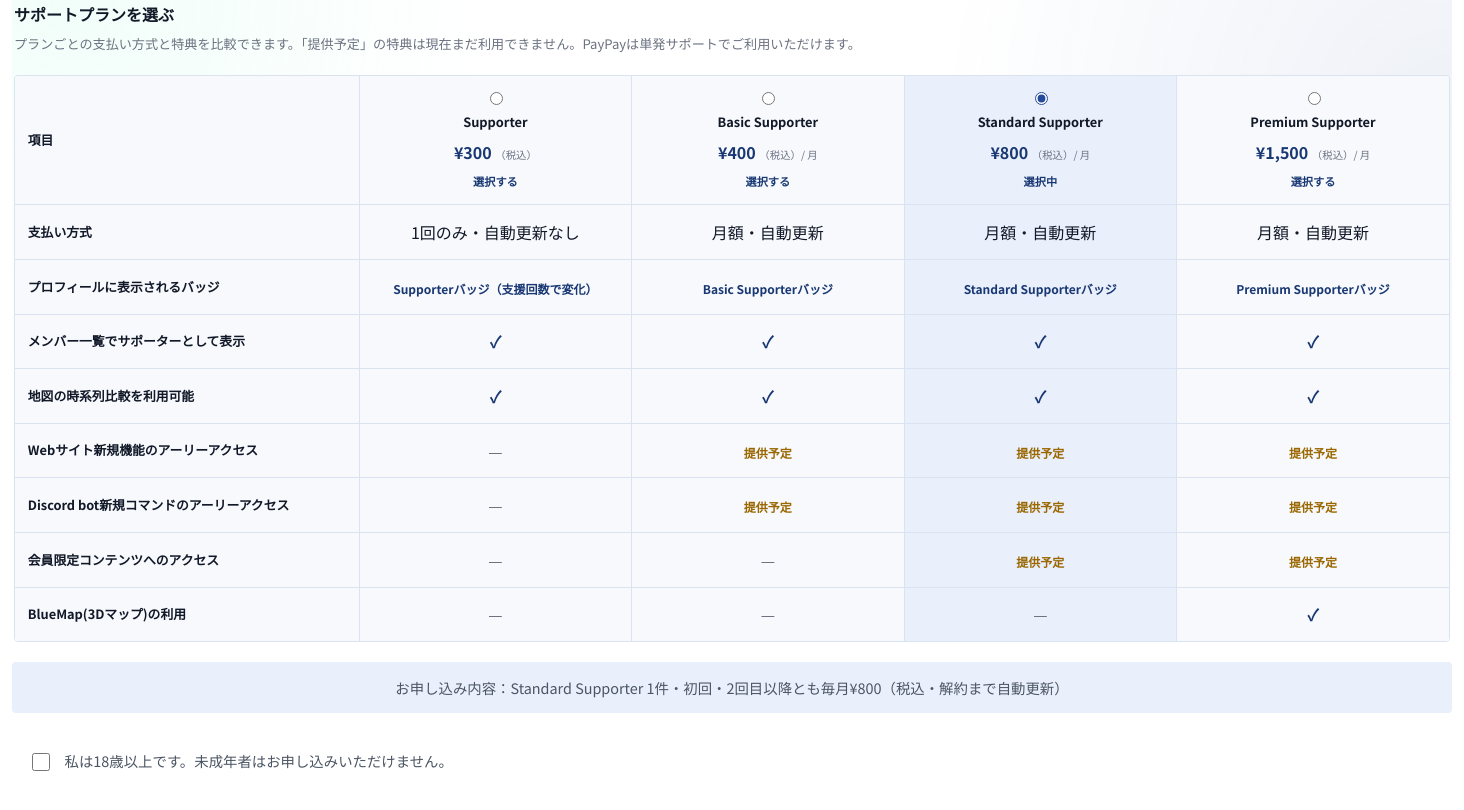
Test: SupportForm › keeps the application button disabled until both required conditions are checked
The width and height of the screenshot is (1464, 810).
Click the checkbox labelled "私は18歳以上です。未成年者はお申し込みいただけません。" at point(41, 762), box [32,753,50,771]
(page scrolled)
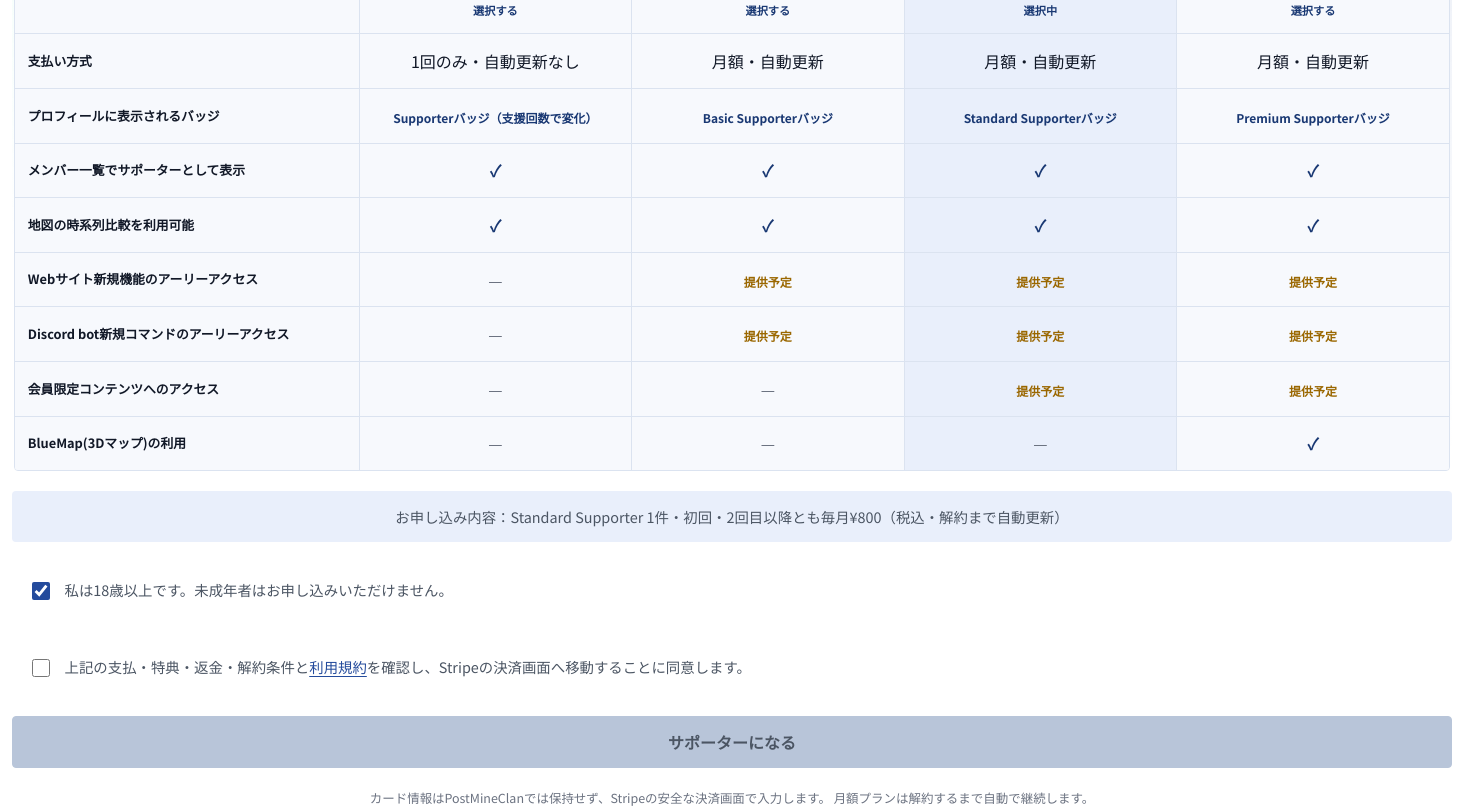
expect the button "サポーターになる" is disabled: met, box [12,716,1452,768]
Click the checkbox labelled "上記の支払・特典・返金・解約条件と 利用規約 を確認し、Stripeの決済画面へ移動することに同意します。" at point(41, 668), box [32,659,50,678]
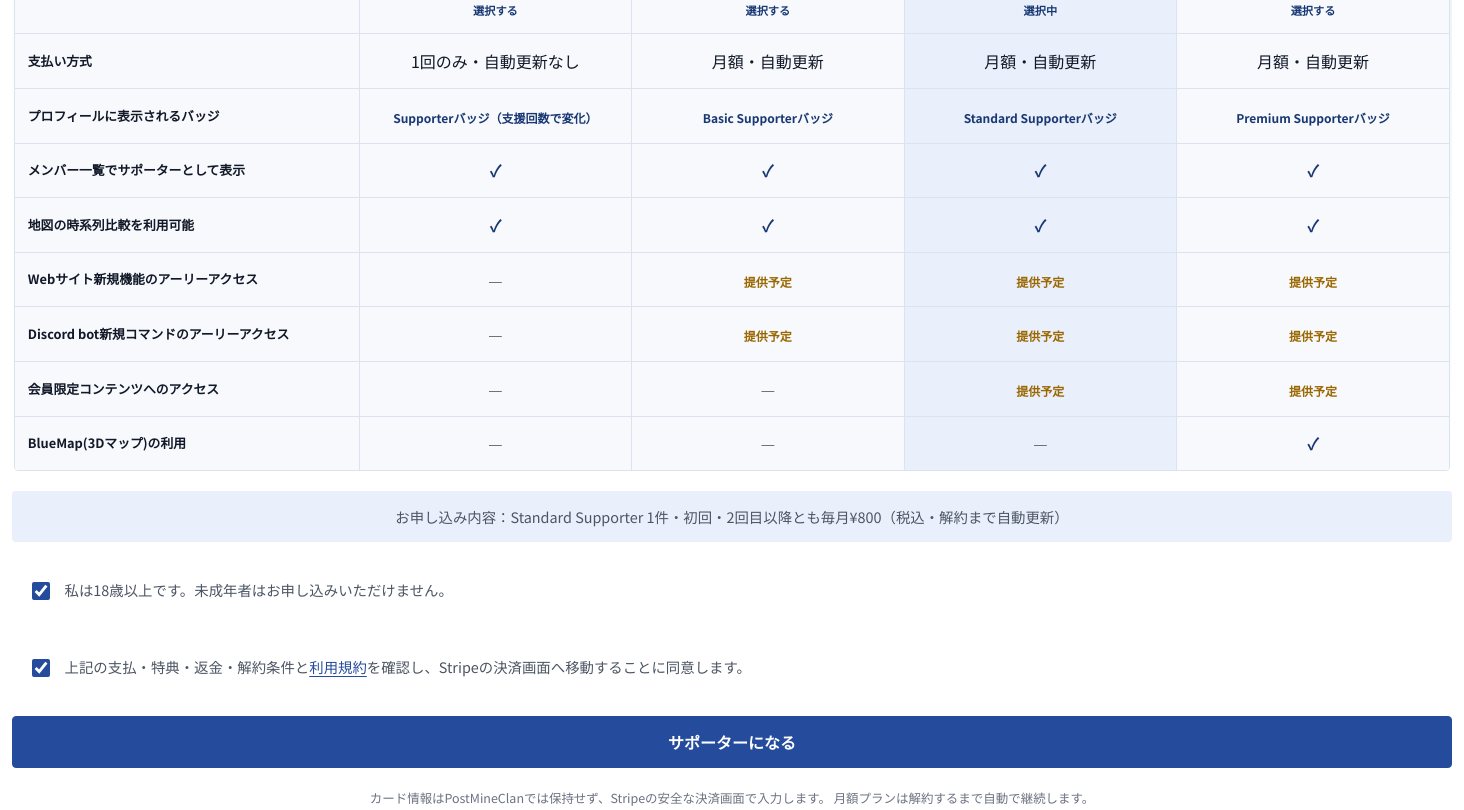
expect the button "サポーターになる" is enabled: met, box [12,716,1452,768]
Click the checkbox labelled "私は18歳以上です。未成年者はお申し込みいただけません。" at point(41, 591), box [32,582,50,600]
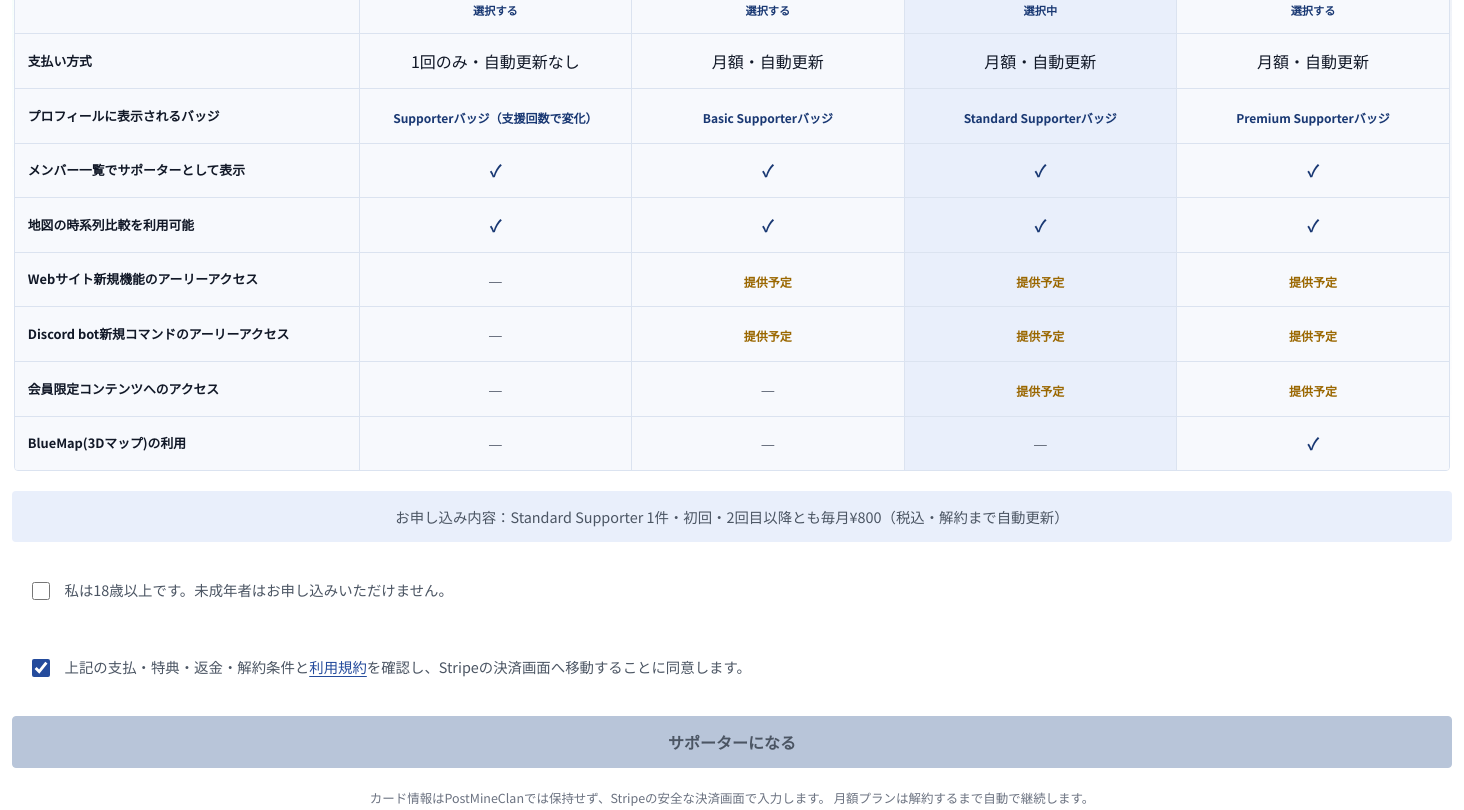
expect the button "サポーターになる" is disabled: met, box [12,716,1452,768]
